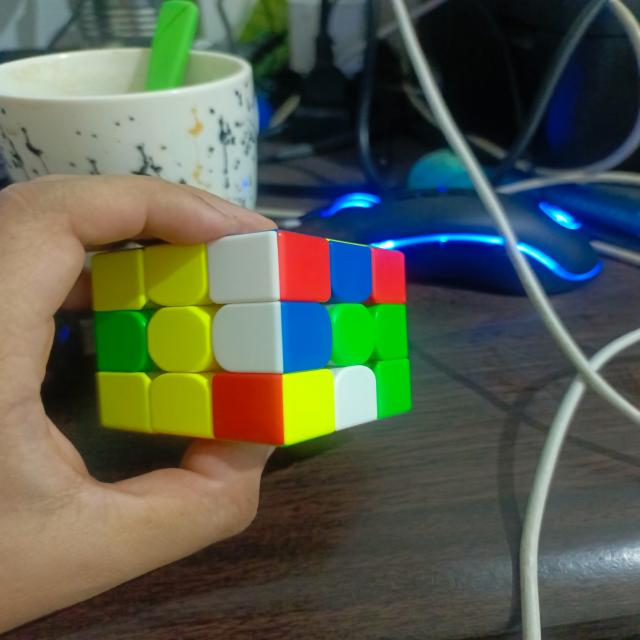rubik: (88, 228, 414, 447)
